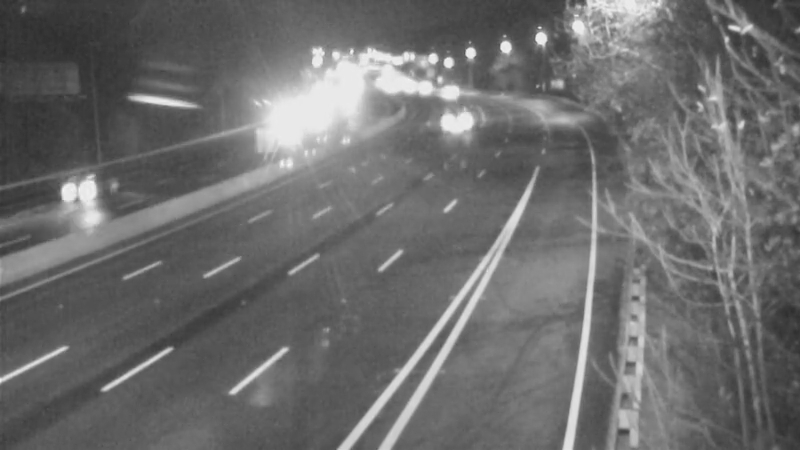vehicle: (36, 149, 116, 229), (421, 65, 471, 115), (426, 91, 476, 141)
